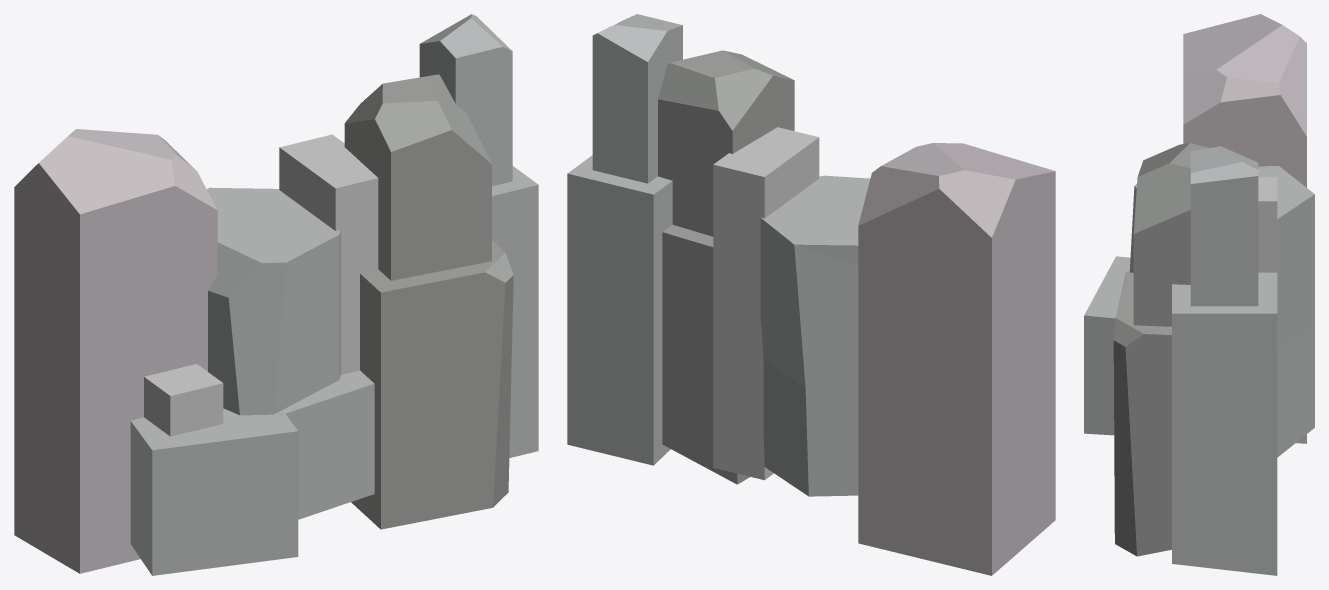
Rendered from Rock_Wall_05.fbx.
3 views of the same model, side by side, from view 1: azimuth 30°, elevation 25°; view 2: azimuth 150°, elevation 25°; view 3: azimuth 270°, elevation 25° (orthographic). The views are drawn at different scales.
Parts seen in each view (by area): view 1: Rock_Wall_05; view 2: Rock_Wall_05; view 3: Rock_Wall_05.
Part boxes in pixels (box(x1,y1,x2,y2)): Rock_Wall_05: box(14, 14, 538, 575); Rock_Wall_05: box(567, 14, 1055, 575); Rock_Wall_05: box(1084, 14, 1314, 575).
Size of the model in its own units: 6.84 by 6.34 by 3.21.
